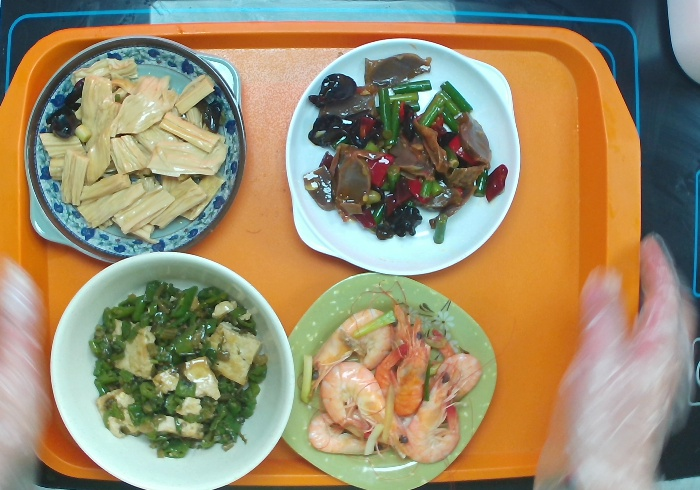NLDX-Bai_Se_Shuang_Er_Die: (277, 32, 524, 282)
NLDX-Bai_Se_Yuan_Wan: (45, 247, 299, 490)
NLDX-Lv_Hua_Fang_Die: (268, 267, 500, 490)
NLDX-Qing_Hua_Shuang_Er_Die: (16, 32, 252, 265)
